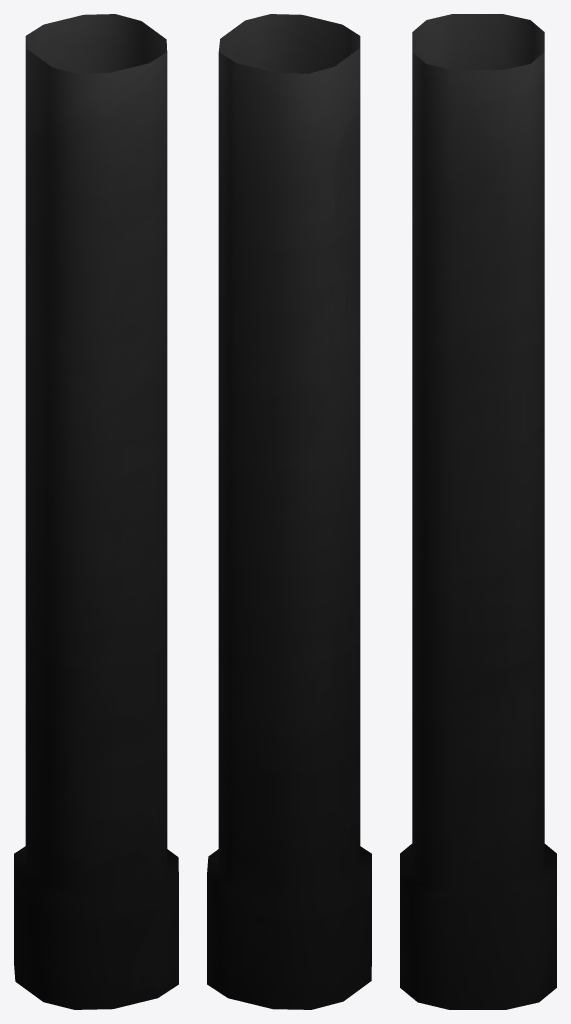
File: Pillar_Mesh.fbx
The picture shows the model from 3 angles, left to right: view 1: azimuth 30°, elevation 25°; view 2: azimuth 150°, elevation 25°; view 3: azimuth 270°, elevation 25°; orthographic projection.
Visible parts, largest first — view 1: pCube1; view 2: pCube1; view 3: pCube1.
Part boxes in pixels (x1,y1,x2,y2): pCube1: (14, 14, 178, 1009); pCube1: (207, 14, 371, 1009); pCube1: (400, 14, 556, 1009).
Bounding box in the file's own units: 7.14 × 47.01 × 7.14.
